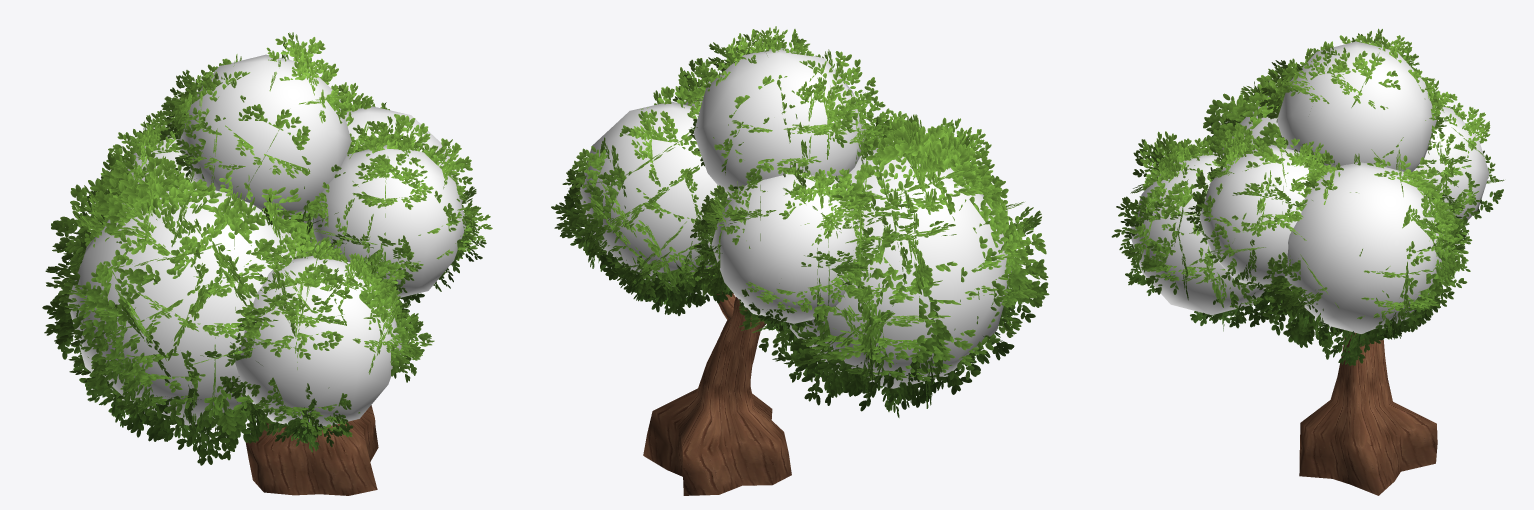
The model's file is cardtree_71924_s61342.gltf.
3 renders of one model, left to right at view 1: azimuth 30°, elevation 25°; view 2: azimuth 150°, elevation 25°; view 3: azimuth 270°, elevation 25°, orthographic. The views are drawn at different scales.
Parts seen in each view (by area): view 1: cardtree_71924_s61342_leaves_LOD0, cardtree_71924_s61342_shadow_LOD0, cardtree_71924_s61342_trunk_LOD0; view 2: cardtree_71924_s61342_leaves_LOD0, cardtree_71924_s61342_shadow_LOD0, cardtree_71924_s61342_trunk_LOD0; view 3: cardtree_71924_s61342_shadow_LOD0, cardtree_71924_s61342_leaves_LOD0, cardtree_71924_s61342_trunk_LOD0.
Part boxes in pixels (bbox=[...]): cardtree_71924_s61342_leaves_LOD0: bbox=[42, 32, 492, 465]; cardtree_71924_s61342_shadow_LOD0: bbox=[67, 54, 465, 427]; cardtree_71924_s61342_trunk_LOD0: bbox=[245, 405, 378, 495]; cardtree_71924_s61342_leaves_LOD0: bbox=[551, 26, 1049, 417]; cardtree_71924_s61342_shadow_LOD0: bbox=[578, 48, 1011, 388]; cardtree_71924_s61342_trunk_LOD0: bbox=[643, 279, 791, 495]; cardtree_71924_s61342_shadow_LOD0: bbox=[1130, 41, 1489, 333]; cardtree_71924_s61342_leaves_LOD0: bbox=[1111, 28, 1504, 365]; cardtree_71924_s61342_trunk_LOD0: bbox=[1299, 332, 1437, 495].
Size of what is drawn, in the model's own units: 11.8 by 11.23 by 10.2.
Materials: 3 (2 with a texture image).
